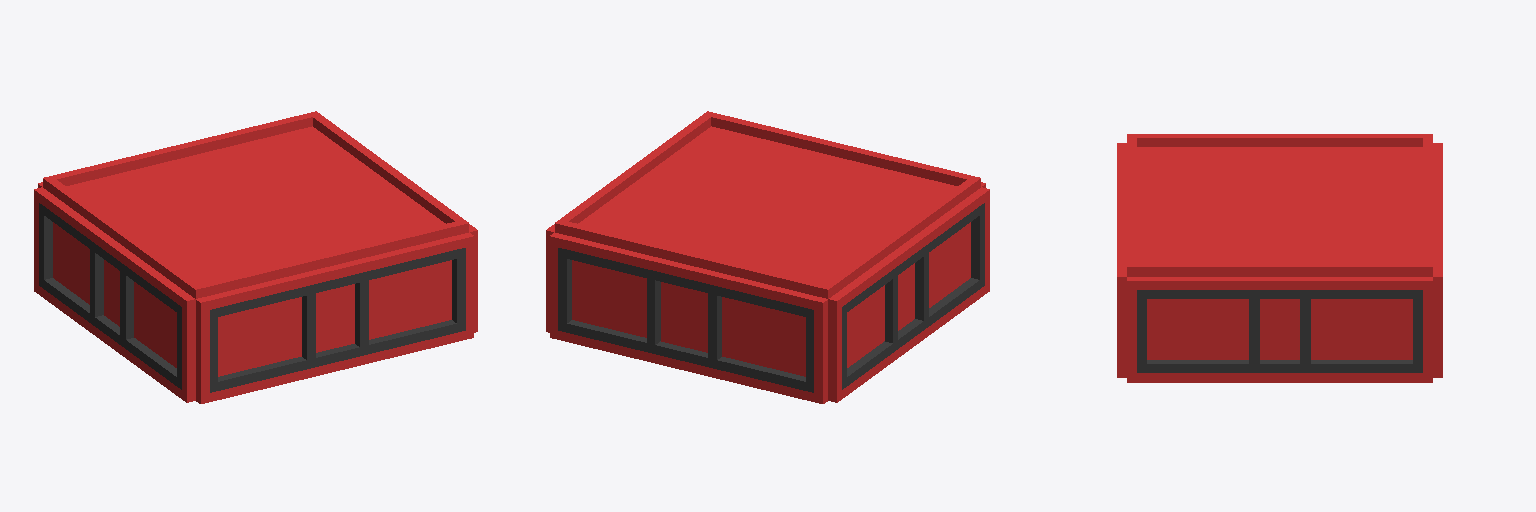
The picture shows the model from 3 angles: view 1: azimuth 30°, elevation 25°; view 2: azimuth 150°, elevation 25°; view 3: azimuth 270°, elevation 25°; orthographic projection.
Visible parts, largest first — view 1: object 1; view 2: object 1; view 3: object 1.
Part boxes in pixels (left/top/right/bottom): object 1: left=34, top=111, right=477, bottom=403; object 1: left=546, top=111, right=989, bottom=403; object 1: left=1117, top=134, right=1442, bottom=382.
Size of the model in its own units: 3.3 by 1.2 by 3.2.
Materials: 1 (1 with a texture image).